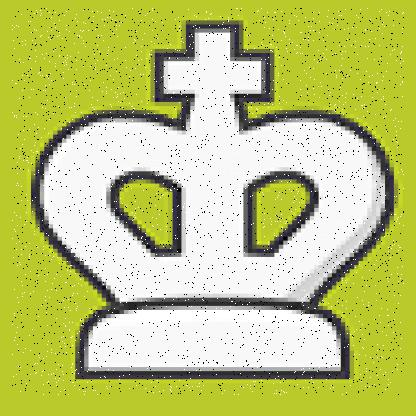White King: (12, 8, 405, 396)
